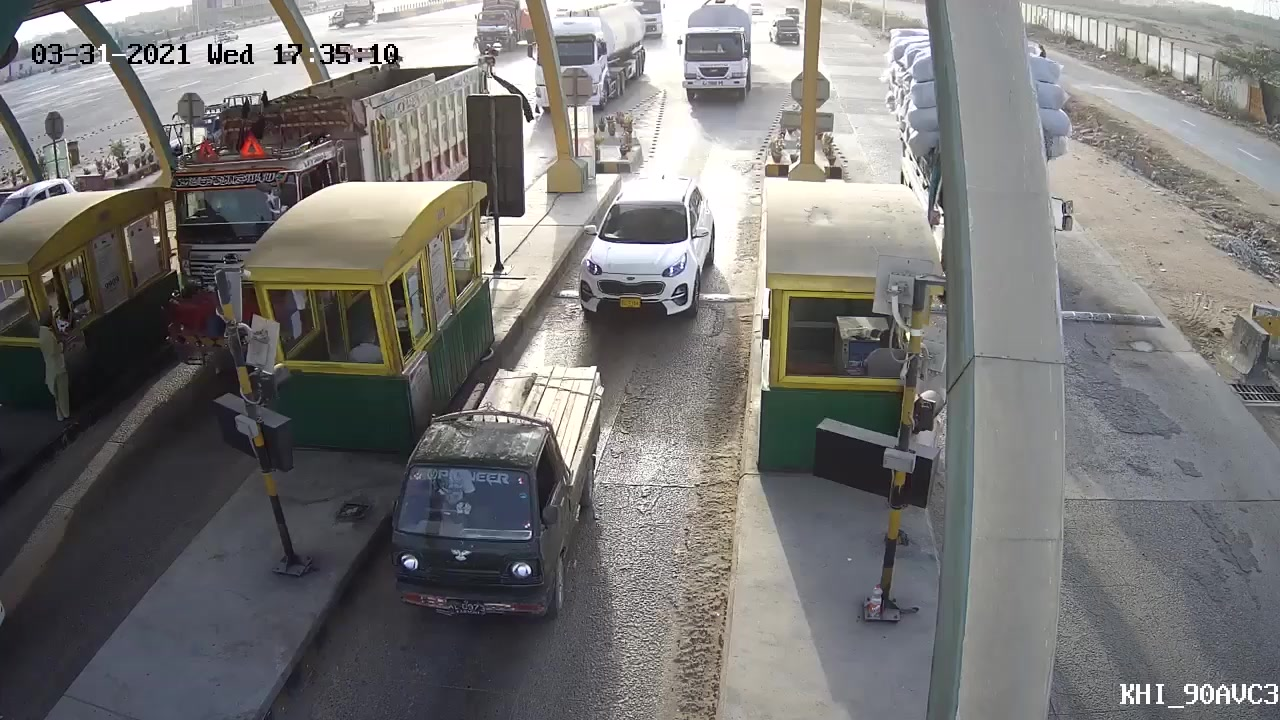F1: (400, 370, 609, 613), (570, 174, 713, 324)
